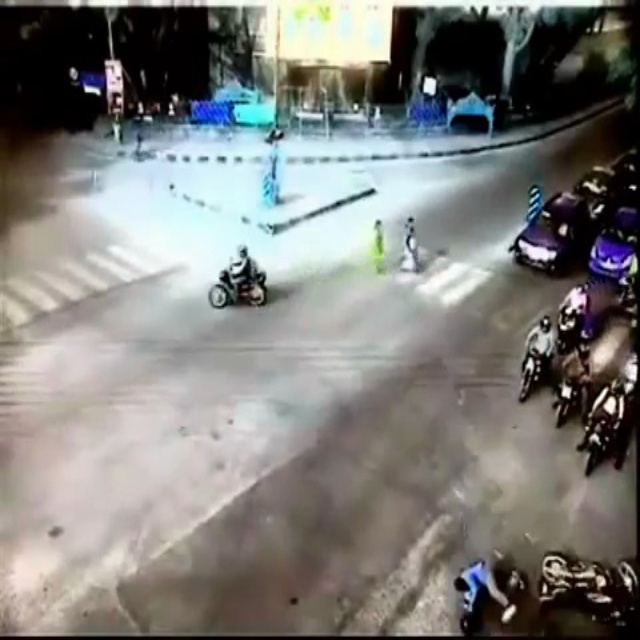acc: (452, 543, 640, 640)
